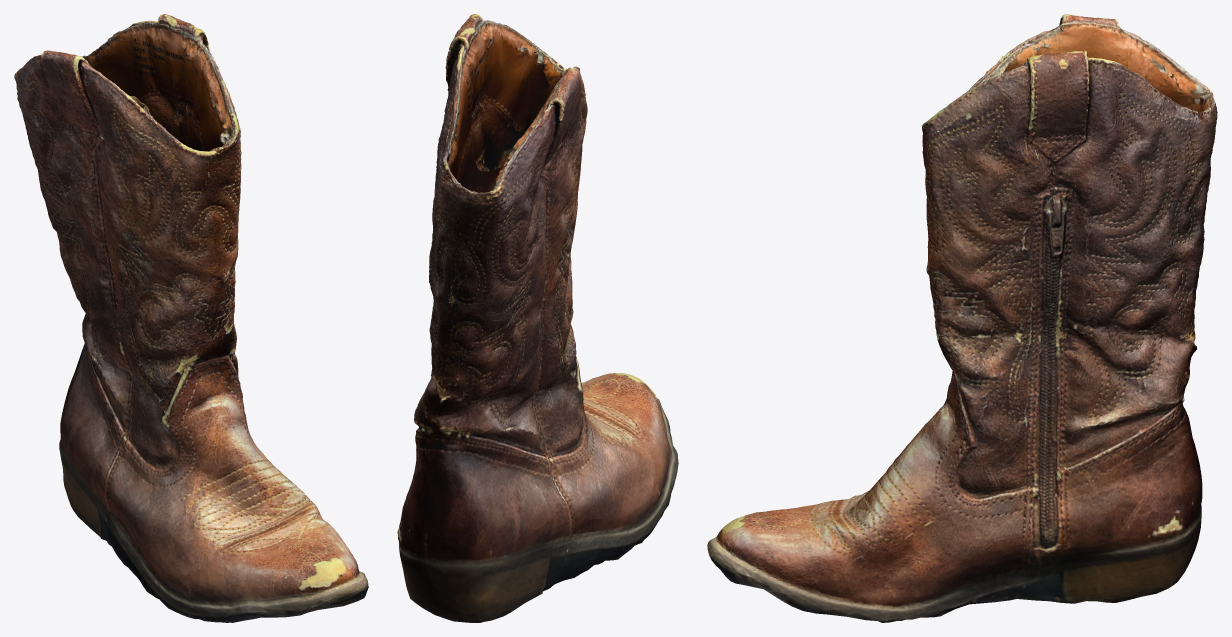
File: Kids Cowboy Boot.glb
3 renders of one model, left to right at view 1: azimuth 30°, elevation 25°; view 2: azimuth 150°, elevation 25°; view 3: azimuth 270°, elevation 25°, orthographic. The views are drawn at different scales.
Bounding box in the file's own units: 0.0936 × 0.2635 × 0.219.
1 material, 1 textured.
